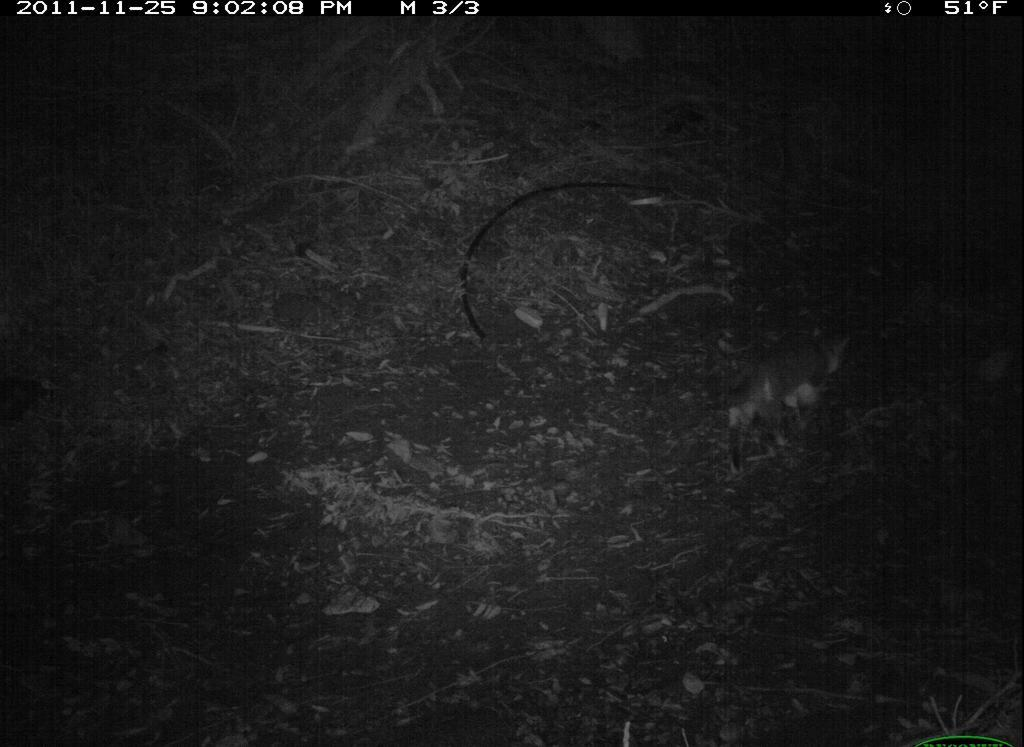cat: (697, 312, 866, 486)
